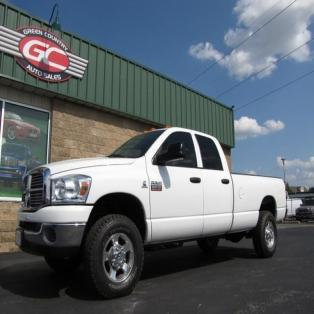Auto: (15, 126, 286, 295)
